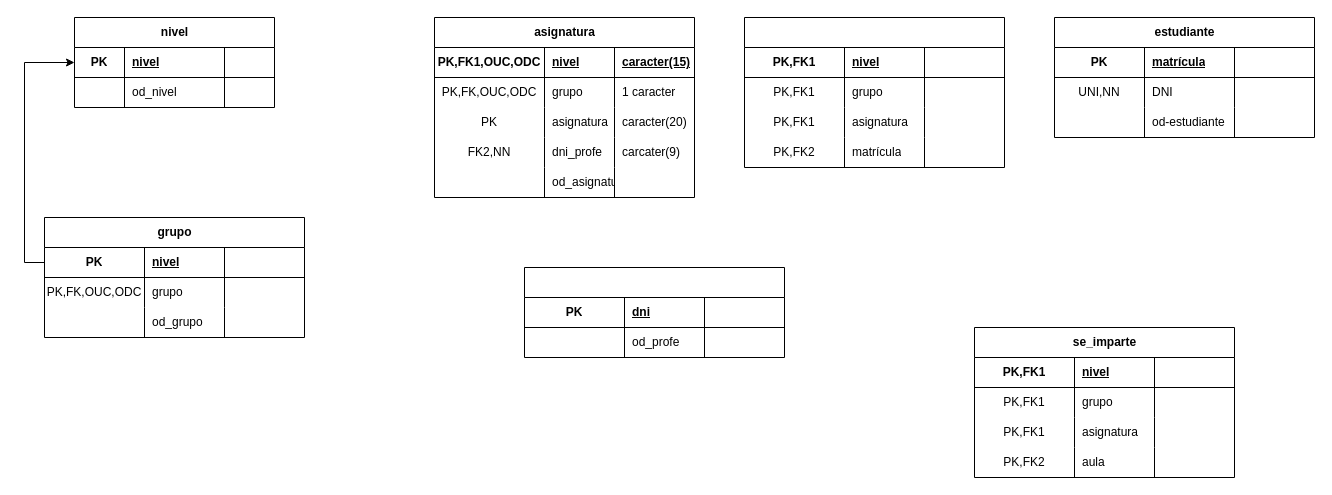
The diagram is 1332 pixels wide and 495 high, and some of its shapes have lost their labels. The shapes that lost their labels are listed below. From the top down, each one's box as (x1, y1, x2, y2) in pixels, then its label:
(744, 16, 1004, 168): cursa
(524, 266, 784, 358): profesorado
